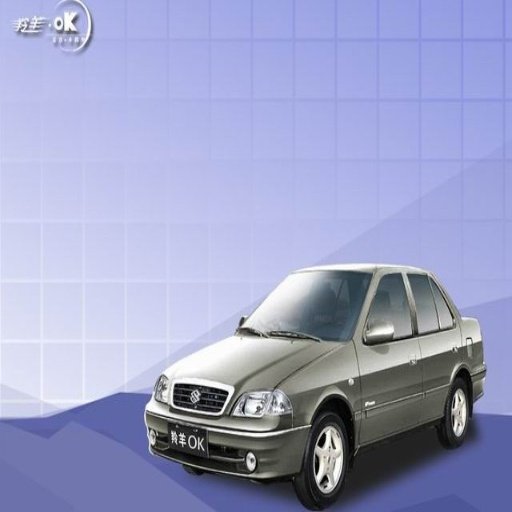front_bumper: (147, 378, 310, 476)
front_glass: (238, 271, 371, 340)
front_left_door: (359, 271, 421, 437), (4, 117, 43, 187)
front_left_light: (231, 385, 290, 418)
trunk: (7, 7, 156, 151)
